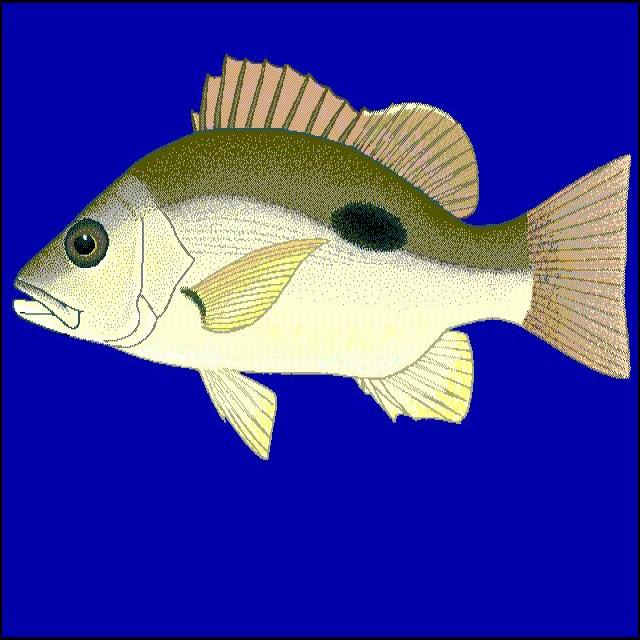ikan: (12, 53, 631, 460)
